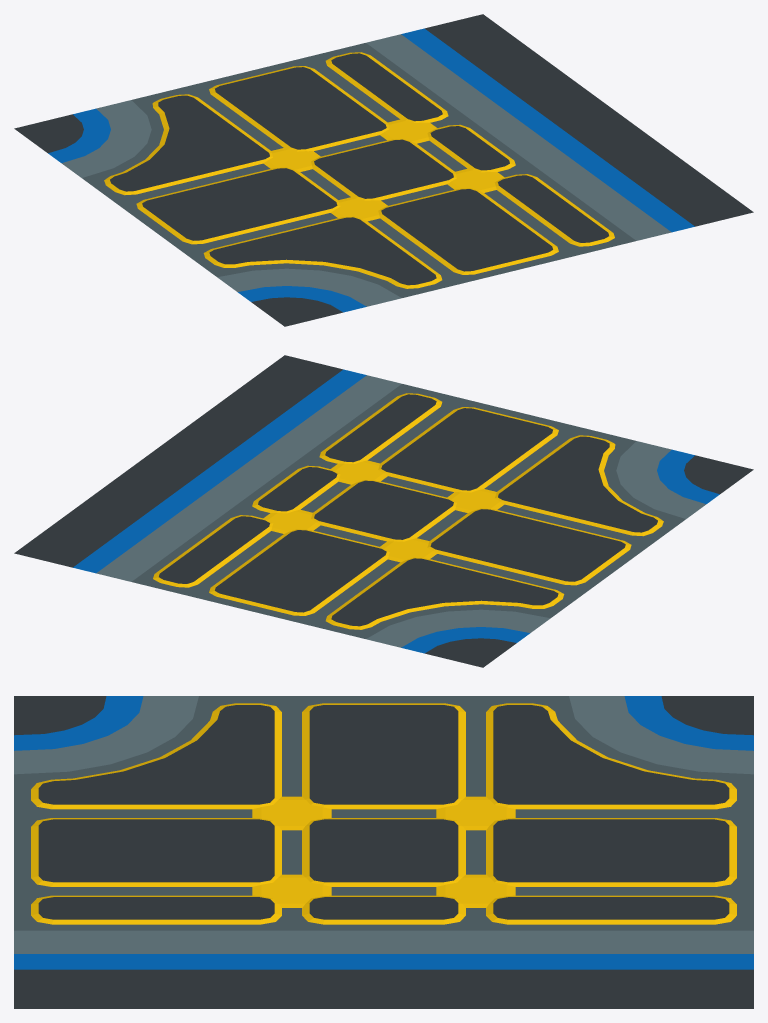
Rendered from Floor_type_C_020.fbx.
3 views of the same model, one above another, from view 1: azimuth 30°, elevation 25°; view 2: azimuth 150°, elevation 25°; view 3: azimuth 270°, elevation 25° (orthographic). The views are drawn at different scales.
Parts seen in each view (by area): view 1: Floor_type_C_020; view 2: Floor_type_C_020; view 3: Floor_type_C_020.
Boxes of the visible parts, box(x1,y1,x2,y2) form: Floor_type_C_020: box(14, 14, 753, 326); Floor_type_C_020: box(14, 355, 753, 667); Floor_type_C_020: box(14, 696, 753, 1008).
Size of the model in its own units: 400 by 400 by 1.34.
